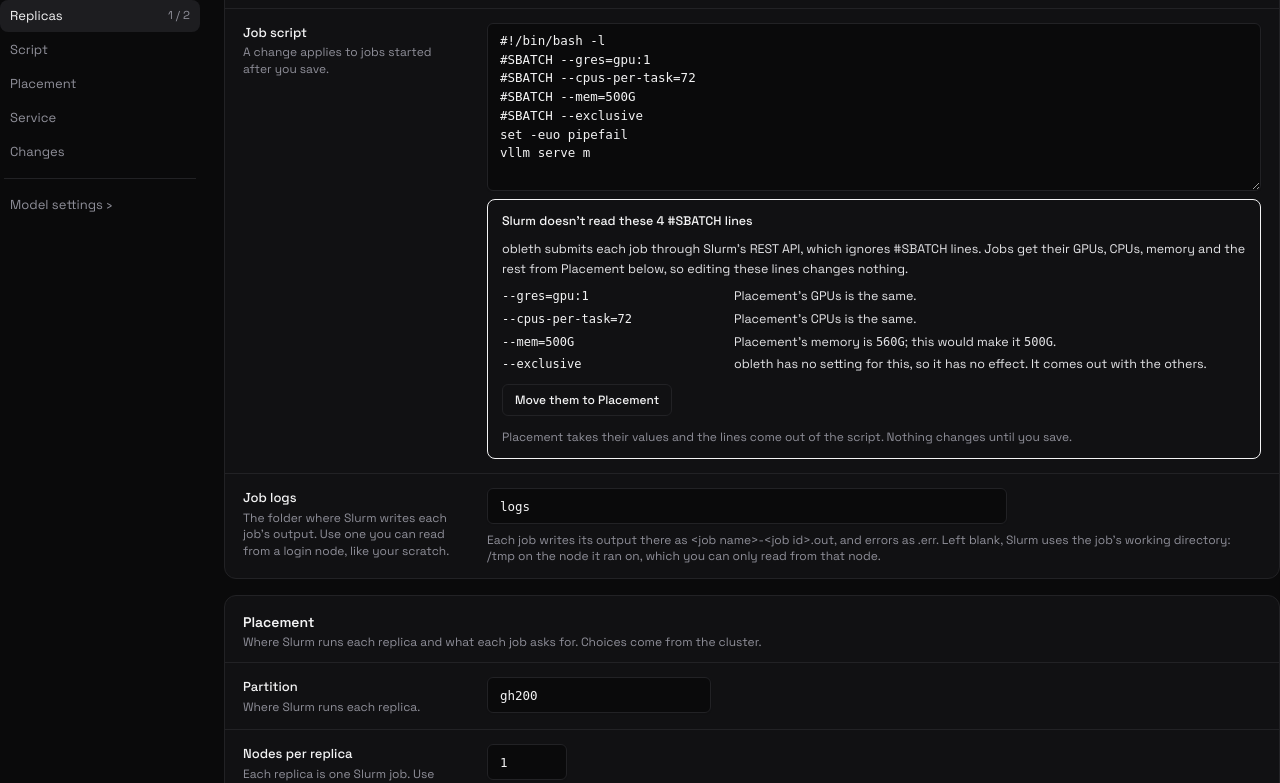
it: a Slurm deployment's page › moves #SBATCH lines from the script into Placement, where Slurm reads them
(page scrolled)
Expected: the message shows "Slurm doesn't read these 4 #SBATCH lines", [487,199,1261,459]
Expected: the message shows "Placement's memory is 560G; this would make it 500G.", [487,199,1261,459]
Step 1. Click the button "Move them to Placement" → (587, 400), box [502,384,672,416]
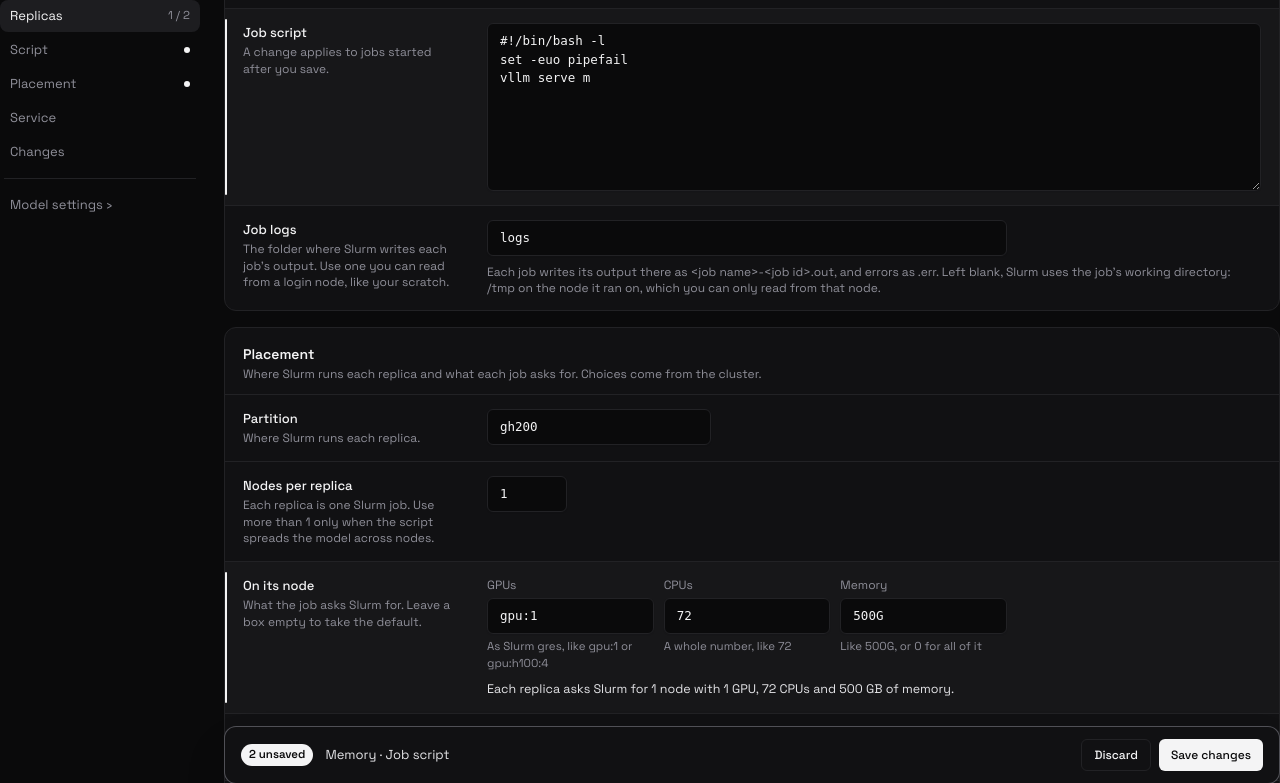
Expected: the field named "slurm_mem" holds "500G", [840,598,1007,634]
Expected: the text "Each replica asks Slurm for 1 node with 1 GPU, 72 CPUs and 500 GB of memory." is shown, [487,681,954,697]
